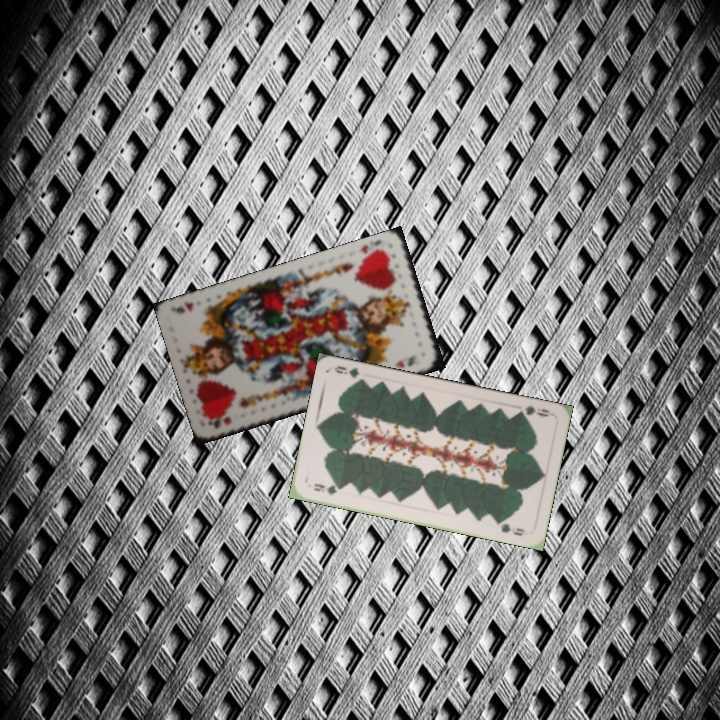G9: (309, 479, 347, 499), (514, 401, 555, 419)
HK: (357, 235, 385, 256), (205, 412, 234, 431)
